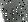person: (1, 8, 8, 22), (9, 9, 14, 20), (18, 11, 24, 20)
